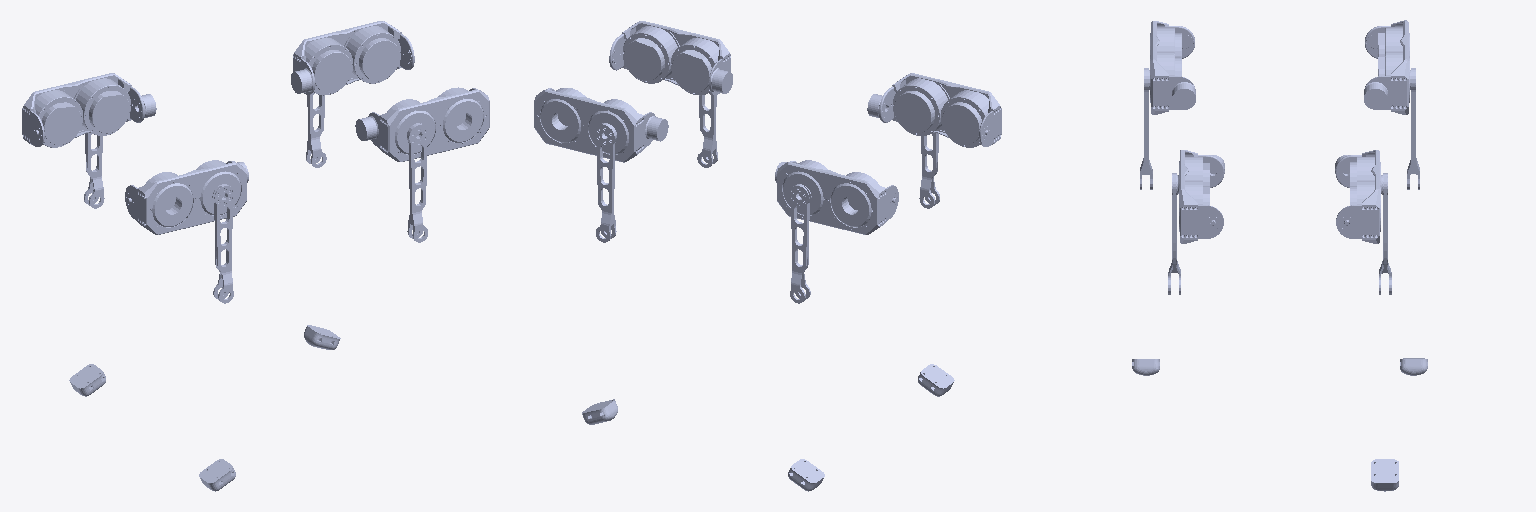
URDF robot description (olympus_description):
<?xml version="1.0" ?>
<robot
  name="olympus_description">


  <link
    name="Body">
    <inertial>
      <origin
        xyz="-0.0093903 0.00018696 0.011109"
        rpy="0 0 0" />
      <mass
        value="5.679" />
      <inertia
        ixx="0.05428615"
        ixy="-0.00110179"
        ixz="-0.0017034"
        iyy="0.15070598"
        iyz="0.00013585"
        izz="0.19574722" />
    </inertial>
    <visual>
      <origin
        xyz="0 0 0"
        rpy="0 0 0" />
      <geometry>
        <mesh
          filename="package://olympus_description/urdf/meshes/Body.STL" />
      </geometry>
      <material
        name="">
        <color
          rgba="0.79216 0.81961 0.93333 1" />
      </material>
    </visual>
    <collision>
      <origin
        xyz="0 0 0"
        rpy="0 0 0" />
      <geometry>
        <mesh
          filename="package://olympus_description/urdf/meshes/Body.STL" />
      </geometry>
    </collision>
  </link>
  



  
  

  
  <link
    name="FrontLeft_motorHousing">
    <inertial>
      <origin
        xyz="0.092829 0.02913 0.00023828"
        rpy="0 0 0" />
      <mass
        value="1.437" />
      <inertia
        ixx="0.00232895"
        ixy="0.00418147"
        ixz="3.194E-05"
        iyy="0.01861991"
        iyz="4.4E-06"
        izz="0.01948836" />
    </inertial>
    <visual>
      <origin
        xyz="0 0 0"
        rpy="0 0 0" />
      <geometry>
        <mesh
          filename="package://olympus_description/urdf/meshes/FrontLeft_motorHousing.STL" />
      </geometry>
      <material
        name="">
        <color
          rgba="0.79216 0.81961 0.93333 1" />
      </material>
    </visual>
    <collision>
      <origin
        xyz="0 0 0"
        rpy="0 0 0" />
      <geometry>
        <mesh
          filename="package://olympus_description/urdf/meshes/FrontLeft_motorHousing.STL" />
      </geometry>
    </collision>
  </link>
  <joint
    name="FrontLeft_motorHousing_hipAduction_motor"
    type="revolute">
    <origin
      xyz="0.143300000000002 0.104999999999997 0"
      rpy="0 0 0" />
    <parent
      link="Body" />
    <child
      link="FrontLeft_motorHousing" />
    <axis
      xyz="-1 0 0" />
    <limit
      lower="-1.57"
      upper="1.57"
      effort="0"
      velocity="0" />
  </joint>
  <link
    name="FrontLeft_hip_inner">
    <inertial>
      <origin
        xyz="-0.00087111 -0.0026375 -0.059532"
        rpy="0 0 0" />
      <mass
        value="0.081" />
      <inertia
        ixx="0.00080743"
        ixy="-7E-08"
        ixz="1.1E-05"
        iyy="0.00081318"
        iyz="-4.71E-06"
        izz="3.7587E-06" />
    </inertial>
    <visual>
      <origin
        xyz="0 0 0"
        rpy="0 0 0" />
      <geometry>
        <mesh
          filename="package://olympus_description/urdf/meshes/FrontLeft_hip_inner.STL" />
      </geometry>
      <material
        name="">
        <color
          rgba="0.79216 0.81961 0.93333 1" />
      </material>
    </visual>
    <collision>
      <origin
        xyz="0 0 0"
        rpy="0 0 0" />
      <geometry>
        <mesh
          filename="package://olympus_description/urdf/meshes/FrontLeft_hip_inner.STL" />
      </geometry>
    </collision>
  </link>
  <joint
    name="FrontLeft_hip_inner_motor"
    type="revolute">
    <origin
      xyz="0.051699999999999 0.0594499999999993 -1.1338370204463E-05"
      rpy="0 0 0" />
    <parent
      link="FrontLeft_motorHousing" />
    <child
      link="FrontLeft_hip_inner" />
    <axis
      xyz="0 1 0" />
    <limit
      lower="-1.57"
      upper="1.57"
      effort="0"
      velocity="0" />
  </joint>
  <link
    name="FrontLeft_shank_inner">
    <inertial>
      <origin
        xyz="-0.018257 -5.7848E-07 -0.18193"
        rpy="0 0 0" />
      <mass
        value="0.1993" />
      <inertia
        ixx="0.00799515"
        ixy="-1.3E-07"
        ixz="0.00072855"
        iyy="0.00807089"
        iyz="-1.55E-06"
        izz="9.64E-05" />
    </inertial>
    <visual>
      <origin
        xyz="0 0 0"
        rpy="0 0 0" />
      <geometry>
        <mesh
          filename="package://olympus_description/urdf/meshes/FrontLeft_shank_inner.STL" />
      </geometry>
      <material
        name="">
        <color
          rgba="0.79216 0.81961 0.93333 1" />
      </material>
    </visual>
    <collision>
      <origin
        xyz="0 0 0"
        rpy="0 0 0" />
      <geometry>
        <mesh
          filename="package://olympus_description/urdf/meshes/FrontLeft_shank_inner.STL" />
      </geometry>
    </collision>
  </link>
  <joint
    name="FrontLeft_shank_inner_knee"
    type="revolute">
    <origin
      xyz="0 0.000750000000007855 -0.225"
      rpy="0 -0.156107447167547 0" />
    <parent
      link="FrontLeft_hip_inner" />
    <child
      link="FrontLeft_shank_inner" />
    <axis
      xyz="0 1 0" />
    <limit
      lower="-1.57"
      upper="1.57"
      effort="0"
      velocity="0" />
  </joint>
  <link
    name="FrontLeft_paw">
    <inertial>
      <origin
        xyz="-0.00016141 -2.5484E-07 0.0013973"
        rpy="0 0 0" />
      <mass
        value="0.02" />
      <inertia
        ixx="3.73E-06"
        ixy="-2.6396E-10"
        ixz="-2E-08"
        iyy="4.78E-06"
        iyz="-7.8092E-11"
        izz="6.37E-06" />
    </inertial>
    <visual>
      <origin
        xyz="0 0 0"
        rpy="0 0 0" />
      <geometry>
        <mesh
          filename="package://olympus_description/urdf/meshes/FrontLeft_paw.STL" />
      </geometry>
      <material
        name="">
        <color
          rgba="0.79216 0.81961 0.93333 1" />
      </material>
    </visual>
    <collision>
      <origin
        xyz="0 0 0"
        rpy="0 0 0" />
      <geometry>
        <mesh
          filename="package://olympus_description/urdf/meshes/FrontLeft_paw.STL" />
      </geometry>
    </collision>
  </link>
  <joint
    name="FrontLeft_paw_joint"
    type="fixed">
    <origin
      xyz="-0.034316172849209 0 -0.275"
      rpy="0 -0.587745839939292 3.14159265358979" />
    <parent
      link="FrontLeft_shank_inner" />
    <child
      link="FrontLeft_paw" />
    <axis
      xyz="0 0 0" />
  </joint>

  <link
    name="FrontRight_motorHousing">
    <inertial>
      <origin
        xyz="0.092829 -0.02913 -0.00023828"
        rpy="0 0 0" />
      <mass
        value="1.4374" />
      <inertia
        ixx="0.00232895"
        ixy="-0.00418147"
        ixz="-3.194E-05"
        iyy="0.01861991"
        iyz="4.4E-06"
        izz="0.01948836" />
    </inertial>
    <visual>
      <origin
        xyz="0 0 0"
        rpy="0 0 0" />
      <geometry>
        <mesh
          filename="package://olympus_description/urdf/meshes/FrontRight_motorHousing.STL" />
      </geometry>
      <material
        name="">
        <color
          rgba="0.79216 0.81961 0.93333 1" />
      </material>
    </visual>
    <collision>
      <origin
        xyz="0 0 0"
        rpy="0 0 0" />
      <geometry>
        <mesh
          filename="package://olympus_description/urdf/meshes/FrontRight_motorHousing.STL" />
      </geometry>
    </collision>
  </link>
  <joint
    name="FrontRight_motorHousing_hipAduction_motor"
    type="revolute">
    <origin
      xyz="0.143300000000001 -0.104999999999999 0"
      rpy="0 0 0" />
    <parent
      link="Body" />
    <child
      link="FrontRight_motorHousing" />
    <axis
      xyz="-1 0 0" />
    <limit
      lower="-1.57"
      upper="1.57"
      effort="0"
      velocity="0" />
  </joint>
  <link
    name="FrontRight_hip_inner">
    <inertial>
      <origin
        xyz="-0.00087097 0.0026333 -0.059284"
        rpy="0 0 0" />
      <mass
        value="0.081" />
      <inertia
        ixx="0.00080451"
        ixy="7E-08"
        ixz="1.098E-05"
        iyy="0.00081035"
        iyz="4.68E-06"
        izz="8.51E-06" />
    </inertial>
    <visual>
      <origin
        xyz="0 0 0"
        rpy="0 0 0" />
      <geometry>
        <mesh
          filename="package://olympus_description/urdf/meshes/FrontRight_hip_inner.STL" />
      </geometry>
      <material
        name="">
        <color
          rgba="0.79216 0.81961 0.93333 1" />
      </material>
    </visual>
    <collision>
      <origin
        xyz="0 0 0"
        rpy="0 0 0" />
      <geometry>
        <mesh
          filename="package://olympus_description/urdf/meshes/FrontRight_hip_inner.STL" />
      </geometry>
    </collision>
  </link>
  <joint
    name="FrontRight_hip_inner_motor"
    type="revolute">
    <origin
      xyz="0.0517000000000003 -0.0594500000000019 1.13383701956029E-05"
      rpy="0 0 0" />
    <parent
      link="FrontRight_motorHousing" />
    <child
      link="FrontRight_hip_inner" />
    <axis
      xyz="0 1 0" />
    <limit
      lower="-1.57"
      upper="1.57"
      effort="0"
      velocity="0" />
  </joint>
  <link
    name="FrontRight_shank_inner">
    <inertial>
      <origin
        xyz="-0.018257 -5.8199E-07 -0.18193"
        rpy="0 0 0" />
      <mass
        value="0.1992" />
      <inertia
        ixx="0.00799515"
        ixy="-1.3E-07"
        ixz="0.00072855"
        iyy="0.00807089"
        iyz="-1.55E-06"
        izz="9.64E-05" />
    </inertial>
    <visual>
      <origin
        xyz="0 0 0"
        rpy="0 0 0" />
      <geometry>
        <mesh
          filename="package://olympus_description/urdf/meshes/FrontRight_shank_inner.STL" />
      </geometry>
      <material
        name="">
        <color
          rgba="0.79216 0.81961 0.93333 1" />
      </material>
    </visual>
    <collision>
      <origin
        xyz="0 0 0"
        rpy="0 0 0" />
      <geometry>
        <mesh
          filename="package://olympus_description/urdf/meshes/FrontRight_shank_inner.STL" />
      </geometry>
    </collision>
  </link>
  <joint
    name="FrontRight_shank_inner_knee"
    type="revolute">
    <origin
      xyz="0 -0.000749999999992201 -0.225"
      rpy="0 -0.156107447167536 0" />
    <parent
      link="FrontRight_hip_inner" />
    <child
      link="FrontRight_shank_inner" />
    <axis
      xyz="0 1 0" />
    <limit
      lower="-1.57"
      upper="1.57"
      effort="0"
      velocity="0" />
  </joint>
  <link
    name="FrontRight_paw">
    <inertial>
      <origin
        xyz="-0.00016141 -2.5484E-07 0.0013973"
        rpy="0 0 0" />
      <mass
        value="0.02" />
      <inertia
        ixx="3.73E-06"
        ixy="0"
        ixz="-2E-08"
        iyy="4.78E-06"
        iyz="0"
        izz="6.37E-06" />
    </inertial>
    <visual>
      <origin
        xyz="0 0 0"
        rpy="0 0 0" />
      <geometry>
        <mesh
          filename="package://olympus_description/urdf/meshes/FrontRight_paw.STL" />
      </geometry>
      <material
        name="">
        <color
          rgba="0.79216 0.81961 0.93333 1" />
      </material>
    </visual>
    <collision>
      <origin
        xyz="0 0 0"
        rpy="0 0 0" />
      <geometry>
        <mesh
          filename="package://olympus_description/urdf/meshes/FrontRight_paw.STL" />
      </geometry>
    </collision>
  </link>
  <joint
    name="FrontRight_paw_joint"
    type="fixed">
    <origin
      xyz="-0.0343161728492139 0 -0.275"
      rpy="0 -0.587745839939292 3.14159265358979" />
    <parent
      link="FrontRight_shank_inner" />
    <child
      link="FrontRight_paw" />
    <axis
      xyz="0 0 0" />
  </joint>
  <link
    name="BackLeft_motorHousing">
    <inertial>
      <origin
        xyz="-0.092829 0.02913 -0.00023828"
        rpy="0 0 0" />
      <mass
        value="1.437" />
      <inertia
        ixx="0.00232895"
        ixy="-0.00418147"
        ixz="3.194E-05"
        iyy="0.01861991"
        iyz="-4.4E-06"
        izz="0.01948836" />
    </inertial>
    <visual>
      <origin
        xyz="0 0 0"
        rpy="0 0 0" />
      <geometry>
        <mesh
          filename="package://olympus_description/urdf/meshes/BackLeft_motorHousing.STL" />
      </geometry>
      <material
        name="">
        <color
          rgba="0.79216 0.81961 0.93333 1" />
      </material>
    </visual>
    <collision>
      <origin
        xyz="0 0 0"
        rpy="0 0 0" />
      <geometry>
        <mesh
          filename="package://olympus_description/urdf/meshes/BackLeft_motorHousing.STL" />
      </geometry>
    </collision>
  </link>
  <joint
    name="BackLeft_motorHousing_hipAduction_motor"
    type="revolute">
    <origin
      xyz="-0.143300000000002 0.149999999999995 0"
      rpy="0 0 0" />
    <parent
      link="Body" />
    <child
      link="BackLeft_motorHousing" />
    <axis
      xyz="1 0 0" />
    <limit
      lower="-1.57"
      upper="1.57"
      effort="0"
      velocity="0" />
  </joint>
  <link
    name="BackLeft_hip_inner">
    <inertial>
      <origin
        xyz="0.00087097 -0.0026333 -0.059284"
        rpy="0 0 0" />
      <mass
        value="0.081" />
      <inertia
        ixx="0.00080451"
        ixy="7E-08"
        ixz="-1.097E-05"
        iyy="0.00081035"
        iyz="-4.68E-06"
        izz="8.51E-06" />
    </inertial>
    <visual>
      <origin
        xyz="0 0 0"
        rpy="0 0 0" />
      <geometry>
        <mesh
          filename="package://olympus_description/urdf/meshes/BackLeft_hip_inner.STL" />
      </geometry>
      <material
        name="">
        <color
          rgba="0.79216 0.81961 0.93333 1" />
      </material>
    </visual>
    <collision>
      <origin
        xyz="0 0 0"
        rpy="0 0 0" />
      <geometry>
        <mesh
          filename="package://olympus_description/urdf/meshes/BackLeft_hip_inner.STL" />
      </geometry>
    </collision>
  </link>
  <joint
    name="BackLeft_hip_inner_motor"
    type="revolute">
    <origin
      xyz="-0.0516999999999978 0.0594500000000004 1.13383700547322E-05"
      rpy="0 0 0" />
    <parent
      link="BackLeft_motorHousing" />
    <child
      link="BackLeft_hip_inner" />
    <axis
      xyz="0 -1 0" />
    <limit
      lower="-1.57"
      upper="1.57"
      effort="0"
      velocity="0" />
  </joint>
  <link
    name="BackLeft_shank_inner">
    <inertial>
      <origin
        xyz="0.018257 5.8939E-07 -0.18193"
        rpy="0 0 0" />
      <mass
        value="0.1993" />
      <inertia
        ixx="0.00799515"
        ixy="-1.3E-07"
        ixz="-0.00072855"
        iyy="0.00807089"
        iyz="1.55E-06"
        izz="9.64E-05" />
    </inertial>
    <visual>
      <origin
        xyz="0 0 0"
        rpy="0 0 0" />
      <geometry>
        <mesh
          filename="package://olympus_description/urdf/meshes/BackLeft_shank_inner.STL" />
      </geometry>
      <material
        name="">
        <color
          rgba="0.79216 0.81961 0.93333 1" />
      </material>
    </visual>
    <collision>
      <origin
        xyz="0 0 0"
        rpy="0 0 0" />
      <geometry>
        <mesh
          filename="package://olympus_description/urdf/meshes/BackLeft_shank_inner.STL" />
      </geometry>
    </collision>
  </link>
  <joint
    name="BackLeft_shank_inner_knee"
    type="revolute">
    <origin
      xyz="0 0.000749999999984485 -0.225"
      rpy="0 0.156107447167218 0" />
    <parent
      link="BackLeft_hip_inner" />
    <child
      link="BackLeft_shank_inner" />
    <axis
      xyz="0 1 0" />
    <limit
      lower="-1.57"
      upper="1.57"
      effort="0"
      velocity="0" />
  </joint>
  <link
    name="BackLeft_paw">
    <inertial>
      <origin
        xyz="0.00016141 2.5484E-07 0.0013973"
        rpy="0 0 0" />
      <mass
        value="0.02" />
      <inertia
        ixx="1.236E-05"
        ixy="0"
        ixz="5E-08"
        iyy="1.587E-05"
        iyz="0"
        izz="2.129E-05" />
    </inertial>
    <visual>
      <origin
        xyz="0 0 0"
        rpy="0 0 0" />
      <geometry>
        <mesh
          filename="package://olympus_description/urdf/meshes/BackLeft_paw.STL" />
      </geometry>
      <material
        name="">
        <color
          rgba="0.79216 0.81961 0.93333 1" />
      </material>
    </visual>
    <collision>
      <origin
        xyz="0 0 0"
        rpy="0 0 0" />
      <geometry>
        <mesh
          filename="package://olympus_description/urdf/meshes/BackLeft_paw.STL" />
      </geometry>
    </collision>
  </link>
  <joint
    name="BackLeft_paw_joint"
    type="fixed">
    <origin
      xyz="0.0343161728493504 0 -0.275"
      rpy="0 0.587745839939292 -3.14159265358976" />
    <parent
      link="BackLeft_shank_inner" />
    <child
      link="BackLeft_paw" />
    <axis
      xyz="0 0 0" />
  </joint>
  <link
    name="BackRight_motorHousing">
    <inertial>
      <origin
        xyz="-0.092829 -0.02913 0.00023828"
        rpy="0 0 0" />
      <mass
        value="1.437" />
      <inertia
        ixx="0.00232895"
        ixy="0.00418147"
        ixz="-3.194E-05"
        iyy="0.01861991"
        iyz="-4.4E-06"
        izz="0.01948836" />
    </inertial>
    <visual>
      <origin
        xyz="0 0 0"
        rpy="0 0 0" />
      <geometry>
        <mesh
          filename="package://olympus_description/urdf/meshes/BackRight_motorHousing.STL" />
      </geometry>
      <material
        name="">
        <color
          rgba="0.79216 0.81961 0.93333 1" />
      </material>
    </visual>
    <collision>
      <origin
        xyz="0 0 0"
        rpy="0 0 0" />
      <geometry>
        <mesh
          filename="package://olympus_description/urdf/meshes/BackRight_motorHousing.STL" />
      </geometry>
    </collision>
  </link>
  <joint
    name="BackRight_motorHousing_hipAduction_motor12"
    type="revolute">
    <origin
      xyz="-0.1433 -0.150000000000002 0"
      rpy="0 0 0" />
    <parent
      link="Body" />
    <child
      link="BackRight_motorHousing" />
    <axis
      xyz="1 0 0" />
    <limit
      lower="-1.57"
      upper="1.57"
      effort="0"
      velocity="0" />
  </joint>
  <link
    name="BackRight_hip_inner">
    <inertial>
      <origin
        xyz="0.00087111 0.0026375 -0.059532"
        rpy="0 0 0" />
      <mass
        value="0.0805" />
      <inertia
        ixx="0.00080743"
        ixy="-7E-08"
        ixz="-1.1E-05"
        iyy="0.00081318"
        iyz="4.71E-06"
        izz="8.42E-06" />
    </inertial>
    <visual>
      <origin
        xyz="0 0 0"
        rpy="0 0 0" />
      <geometry>
        <mesh
          filename="package://olympus_description/urdf/meshes/BackRight_hip_inner.STL" />
      </geometry>
      <material
        name="">
        <color
          rgba="0.79216 0.81961 0.93333 1" />
      </material>
    </visual>
    <collision>
      <origin
        xyz="0 0 0"
        rpy="0 0 0" />
      <geometry>
        <mesh
          filename="package://olympus_description/urdf/meshes/BackRight_hip_inner.STL" />
      </geometry>
    </collision>
  </link>
  <joint
    name="BackRight_hip_inner_motor11"
    type="revolute">
    <origin
      xyz="-0.0517000000000002 -0.0594500000000022 -1.1338370431546E-05"
      rpy="0 0 0" />
    <parent
      link="BackRight_motorHousing" />
    <child
      link="BackRight_hip_inner" />
    <axis
      xyz="0 1 0" />
    <limit
      lower="-1.57"
      upper="1.57"
      effort="0"
      velocity="0" />
  </joint>
  <link
    name="BackRight_shank_inner">
    <inertial>
      <origin
        xyz="0.018257 5.8084E-07 -0.18193"
        rpy="0 0 0" />
      <mass
        value="0.1993" />
      <inertia
        ixx="0.00799515"
        ixy="-1.3E-07"
        ixz="-0.00072855"
        iyy="0.00807089"
        iyz="1.55E-06"
        izz="9.64E-05" />
    </inertial>
    <visual>
      <origin
        xyz="0 0 0"
        rpy="0 0 0" />
      <geometry>
        <mesh
          filename="package://olympus_description/urdf/meshes/BackRight_shank_inner.STL" />
      </geometry>
      <material
        name="">
        <color
          rgba="0.79216 0.81961 0.93333 1" />
      </material>
    </visual>
    <collision>
      <origin
        xyz="0 0 0"
        rpy="0 0 0" />
      <geometry>
        <mesh
          filename="package://olympus_description/urdf/meshes/BackRight_shank_inner.STL" />
      </geometry>
    </collision>
  </link>
  <joint
    name="BackRight_shank_inner_knee"
    type="revolute">
    <origin
      xyz="0 -0.000749999999271611 -0.225"
      rpy="0 0.156107447164923 0" />
    <parent
      link="BackRight_hip_inner" />
    <child
      link="BackRight_shank_inner" />
    <axis
      xyz="0 1 0" />
    <limit
      lower="-1.57"
      upper="1.57"
      effort="0"
      velocity="0" />
  </joint>
  <link
    name="BackRight_paw">
    <inertial>
      <origin
        xyz="0.00016141 2.5484E-07 0.0013973"
        rpy="0 0 0" />
      <mass
        value="0.02" />
      <inertia
        ixx="1.245E-05"
        ixy="0"
        ixz="6E-08"
        iyy="1.597E-05"
        iyz="0"
        izz="2.129E-05" />
    </inertial>
    <visual>
      <origin
        xyz="0 0 0"
        rpy="0 0 0" />
      <geometry>
        <mesh
          filename="package://olympus_description/urdf/meshes/BackRight_paw.STL" />
      </geometry>
      <material
        name="">
        <color
          rgba="0.79216 0.81961 0.93333 1" />
      </material>
    </visual>
    <collision>
      <origin
        xyz="0 0 0"
        rpy="0 0 0" />
      <geometry>
        <mesh
          filename="package://olympus_description/urdf/meshes/BackRight_paw.STL" />
      </geometry>
    </collision>
  </link>
  <joint
    name="BackRight_paw_joint"
    type="fixed">
    <origin
      xyz="0.0343161728494181 0 -0.275"
      rpy="0 0.58774583993929 3.14159265358979" />
    <parent
      link="BackRight_shank_inner" />
    <child
      link="BackRight_paw" />
    <axis
      xyz="0 0 0" />
  </joint>

</robot>

--- Render facts (derived) ---
Views: 3 orthographic renders of the robot side by side, from view 1: azimuth 30°, elevation 25°; view 2: azimuth 150°, elevation 25°; view 3: azimuth 270°, elevation 25°.
Model olympus_description with 17 links and 16 joints (12 revolute, 4 fixed), rooted at Body, posed all joints at 0.
Links seen in each view (by area): view 1: BackLeft_motorHousing, FrontLeft_motorHousing, FrontRight_motorHousing, BackRight_motorHousing, BackRight_hip_inner, FrontRight_hip_inner, BackLeft_hip_inner, FrontLeft_hip_inner, BackLeft_paw, BackRight_paw, FrontLeft_paw; view 2: BackRight_motorHousing, FrontRight_motorHousing, FrontLeft_motorHousing, BackLeft_motorHousing, BackLeft_hip_inner, FrontLeft_hip_inner, BackRight_hip_inner, FrontRight_hip_inner, BackLeft_paw, BackRight_paw, FrontLeft_paw; view 3: BackLeft_motorHousing, BackRight_motorHousing, FrontRight_motorHousing, FrontLeft_motorHousing, FrontLeft_paw, BackRight_hip_inner, BackLeft_hip_inner, FrontLeft_hip_inner, FrontRight_hip_inner.
Link boxes in pixels (x1=…): BackLeft_motorHousing: x1=22, y1=73, x2=156, y2=147; FrontLeft_motorHousing: x1=291, y1=21, x2=414, y2=95; FrontRight_motorHousing: x1=355, y1=87, x2=489, y2=161; BackRight_motorHousing: x1=125, y1=160, x2=248, y2=234; BackRight_hip_inner: x1=212, y1=184, x2=234, y2=303; FrontRight_hip_inner: x1=407, y1=123, x2=428, y2=242; BackLeft_hip_inner: x1=84, y1=133, x2=104, y2=208; FrontLeft_hip_inner: x1=306, y1=92, x2=326, y2=167; BackLeft_paw: x1=69, y1=364, x2=105, y2=396; BackRight_paw: x1=199, y1=459, x2=235, y2=491; FrontLeft_paw: x1=304, y1=325, x2=340, y2=349; BackRight_motorHousing: x1=867, y1=73, x2=1001, y2=147; FrontRight_motorHousing: x1=609, y1=21, x2=732, y2=95; FrontLeft_motorHousing: x1=534, y1=88, x2=668, y2=162; BackLeft_motorHousing: x1=775, y1=160, x2=898, y2=234; BackLeft_hip_inner: x1=789, y1=184, x2=811, y2=303; FrontLeft_hip_inner: x1=595, y1=123, x2=616, y2=242; BackRight_hip_inner: x1=919, y1=133, x2=939, y2=208; FrontRight_hip_inner: x1=697, y1=92, x2=717, y2=167; BackLeft_paw: x1=788, y1=459, x2=824, y2=491; BackRight_paw: x1=918, y1=364, x2=954, y2=396; FrontLeft_paw: x1=582, y1=399, x2=617, y2=424; BackLeft_motorHousing: x1=1364, y1=20, x2=1409, y2=114; BackRight_motorHousing: x1=1150, y1=21, x2=1195, y2=114; FrontRight_motorHousing: x1=1179, y1=150, x2=1224, y2=243; FrontLeft_motorHousing: x1=1335, y1=150, x2=1380, y2=243; FrontLeft_paw: x1=1371, y1=459, x2=1398, y2=491; BackRight_hip_inner: x1=1140, y1=68, x2=1152, y2=189; BackLeft_hip_inner: x1=1407, y1=68, x2=1419, y2=189; FrontLeft_hip_inner: x1=1379, y1=173, x2=1391, y2=294; FrontRight_hip_inner: x1=1168, y1=173, x2=1180, y2=294.
Size in the robot's own frame: 0.677 by 0.4654 by 0.5688 metres.
11 mesh visuals loaded from 17 distinct referenced files (11 binary STL); not drawn: 6 (reference not matched to a file when rendering).